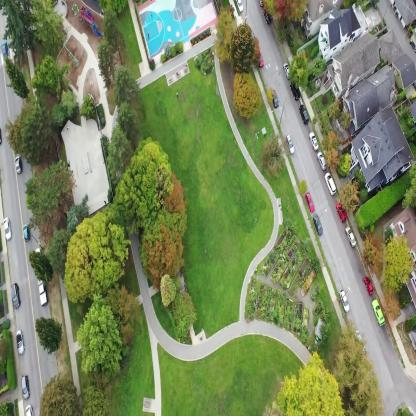Coniferous Tree: (0, 0, 36, 48), (27, 0, 65, 43), (34, 316, 64, 349), (6, 63, 30, 104), (26, 250, 52, 285), (263, 137, 284, 180), (115, 104, 136, 130)
Deciduous Tree: (117, 132, 168, 234), (77, 289, 134, 376), (64, 217, 126, 295), (276, 348, 338, 416), (335, 330, 381, 416), (26, 170, 75, 221), (144, 214, 182, 275), (10, 112, 52, 162), (105, 134, 136, 182), (46, 232, 75, 282), (103, 13, 130, 66), (383, 240, 411, 290), (37, 380, 75, 416), (158, 174, 184, 226), (32, 57, 64, 98), (233, 73, 260, 121), (118, 76, 146, 118), (216, 12, 236, 67), (270, 0, 304, 29), (172, 290, 196, 330), (78, 386, 106, 416), (99, 41, 114, 95), (233, 30, 252, 66), (291, 50, 306, 93)
